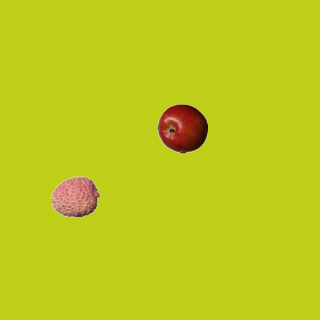Apple Braeburn: (157, 103, 207, 153)
Lychee: (50, 171, 100, 221)
